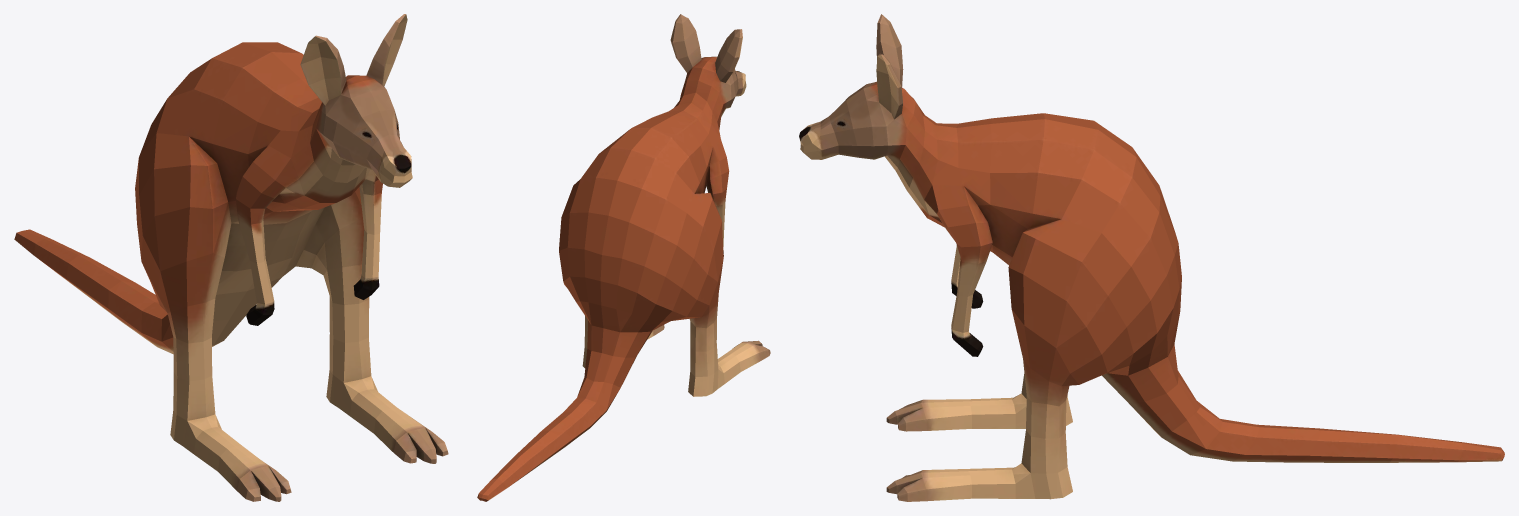
Rendered from kangaroo.glb.
3 views of the same model, side by side, from view 1: azimuth 30°, elevation 25°; view 2: azimuth 150°, elevation 25°; view 3: azimuth 270°, elevation 25° (orthographic). The views are drawn at different scales.
Visible parts, largest first — view 1: RedKangaroo_Mesh; view 2: RedKangaroo_Mesh; view 3: RedKangaroo_Mesh.
Part boxes in pixels (x1,y1,x2,y2): RedKangaroo_Mesh: (14,14,448,501); RedKangaroo_Mesh: (477,14,770,501); RedKangaroo_Mesh: (799,14,1504,501).
Size of the model in its own units: 3.95 by 8.26 by 12.4.
1 material, 1 textured.
